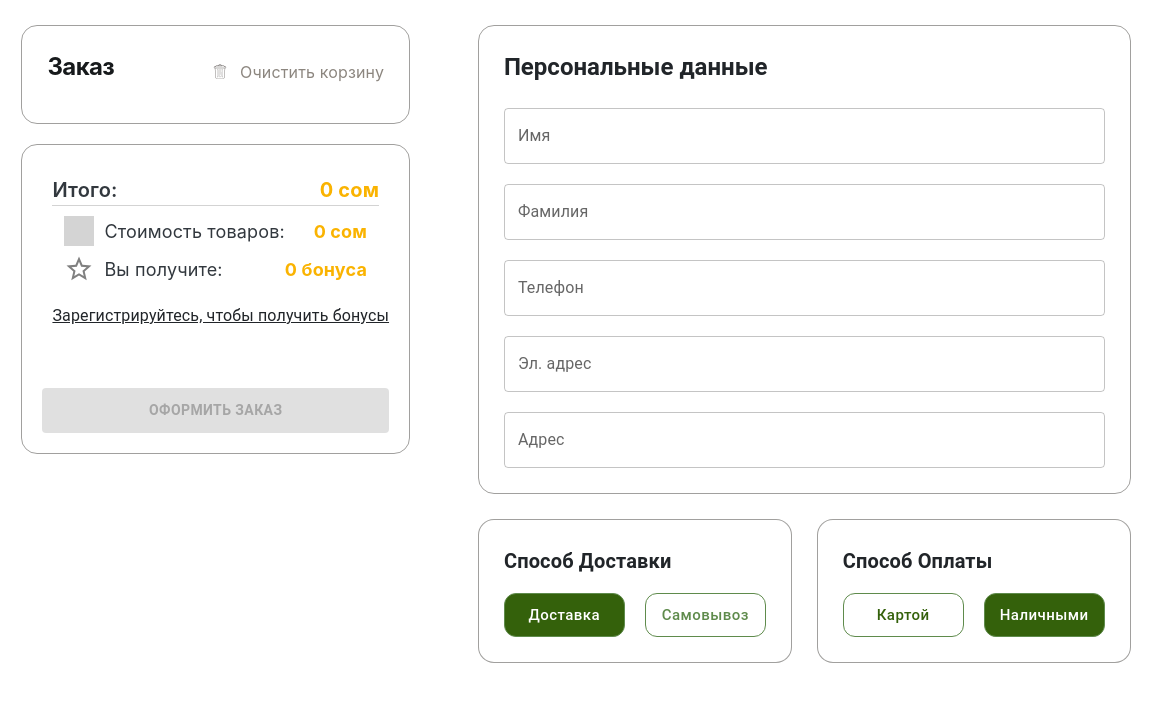
Scenario: OrderForm component › validates email format
The image size is (1152, 720).
Type "invalid-email" into the field labelled "Эл. адрес" at (804, 364), box [504,336,1105,392]
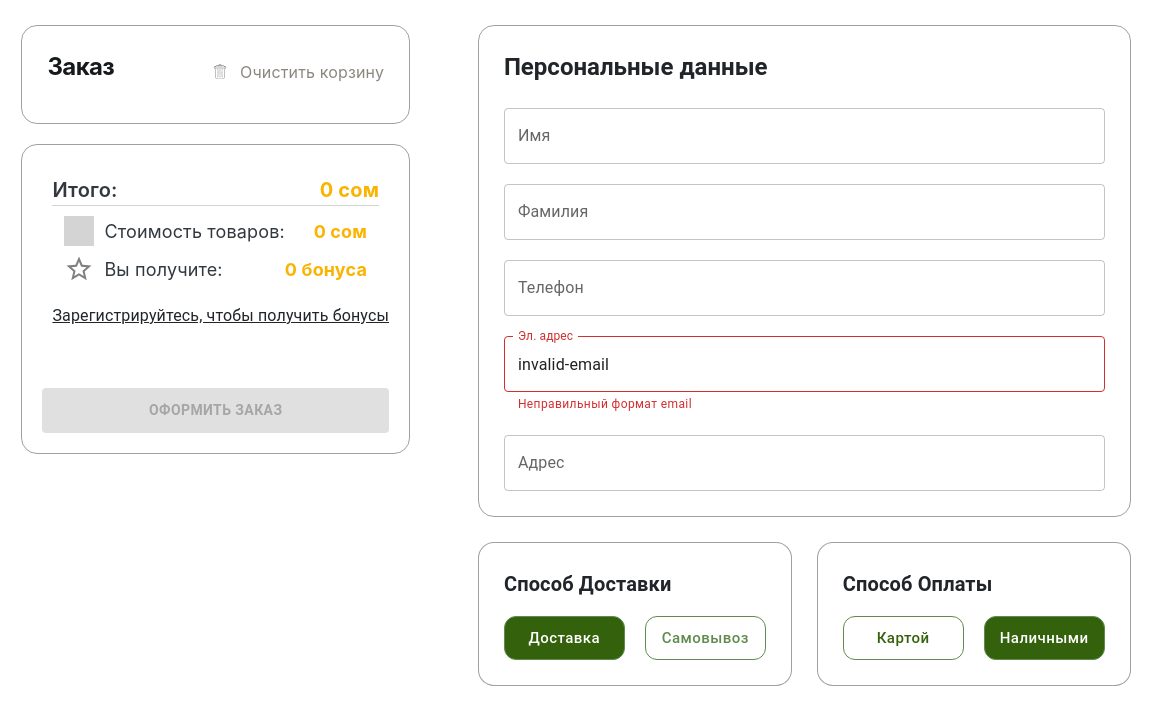
expect the text "Неправильный формат email" is shown: met, box [518,397,692,411]
Replace the text in the field labelled "Эл. адрес" with "valid@email.com" at (804, 364), box [504,336,1105,392]
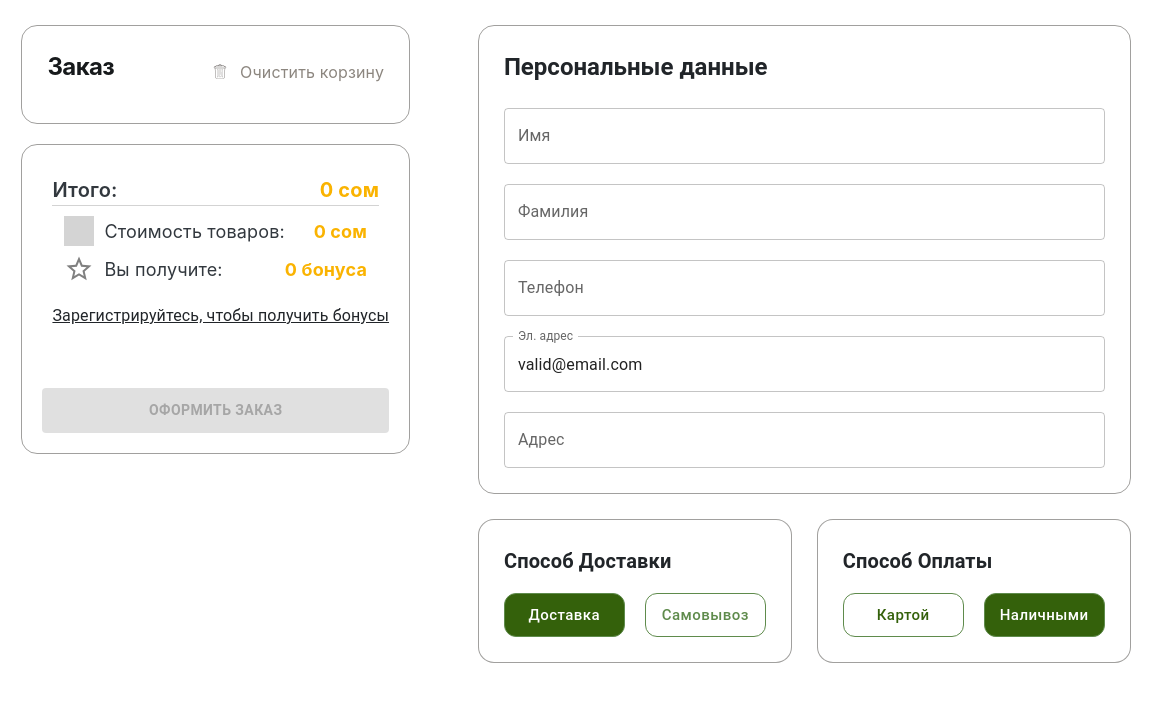
expect the text "Неправильный формат email" is gone: met
